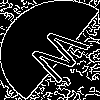W: (25, 25, 100, 90)
